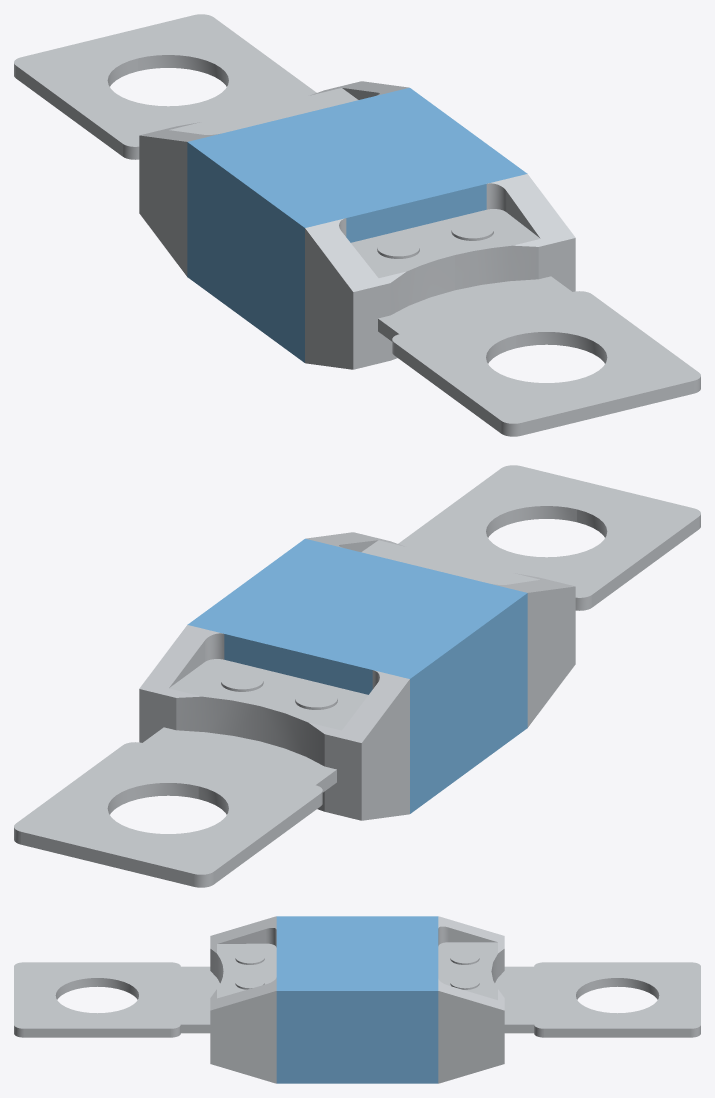
The model's file is fuse-0.glb.
The picture shows the model from 3 angles, top to bottom: view 1: azimuth 30°, elevation 25°; view 2: azimuth 150°, elevation 25°; view 3: azimuth 270°, elevation 25°; orthographic projection. The views are drawn at different scales.
Parts seen in each view (by area): view 1: terminals, body; view 2: terminals, body; view 3: terminals, body.
Part boxes in pixels (x1=…): terminals: x1=14, y1=14, x2=700, y2=436; body: x1=187, y1=87, x2=527, y2=362; terminals: x1=14, y1=465, x2=700, y2=887; body: x1=187, y1=538, x2=527, y2=813; terminals: x1=14, y1=916, x2=700, y2=1083; body: x1=276, y1=916, x2=438, y2=1083.
Bounding box in the file's own units: 0.018 × 0.0105 × 0.07.
